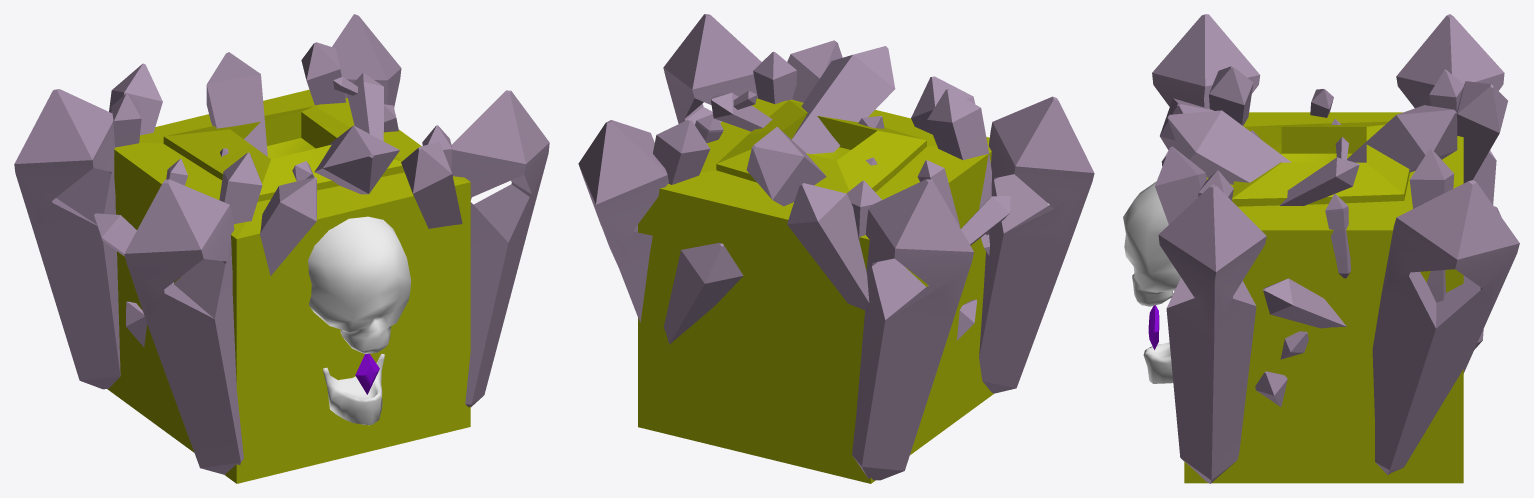
File: Laser_Dispenser_V2.fbx
The picture shows the model from 3 angles, left to right: view 1: azimuth 30°, elevation 25°; view 2: azimuth 150°, elevation 25°; view 3: azimuth 270°, elevation 25°; orthographic projection. The views are drawn at different scales.
Parts seen in each view (by area): view 1: Crystals_Low, Base_Low, Skull_Low, LaserCrystals_Low; view 2: Crystals_Low, Base_Low; view 3: Crystals_Low, Base_Low, Skull_Low.
Boxes of the visible parts, left/top/right/bottom form: Crystals_Low: left=14, top=14, right=549, bottom=474; Base_Low: left=107, top=89, right=470, bottom=483; Skull_Low: left=308, top=216, right=411, bottom=425; LaserCrystals_Low: left=355, top=353, right=379, bottom=394; Crystals_Low: left=578, top=14, right=1094, bottom=480; Base_Low: left=638, top=98, right=993, bottom=483; Crystals_Low: left=1152, top=14, right=1519, bottom=483; Base_Low: left=1184, top=112, right=1463, bottom=483; Skull_Low: left=1123, top=181, right=1180, bottom=383.
Bounding box in the file's own units: 4.34 × 3.04 × 3.36.
